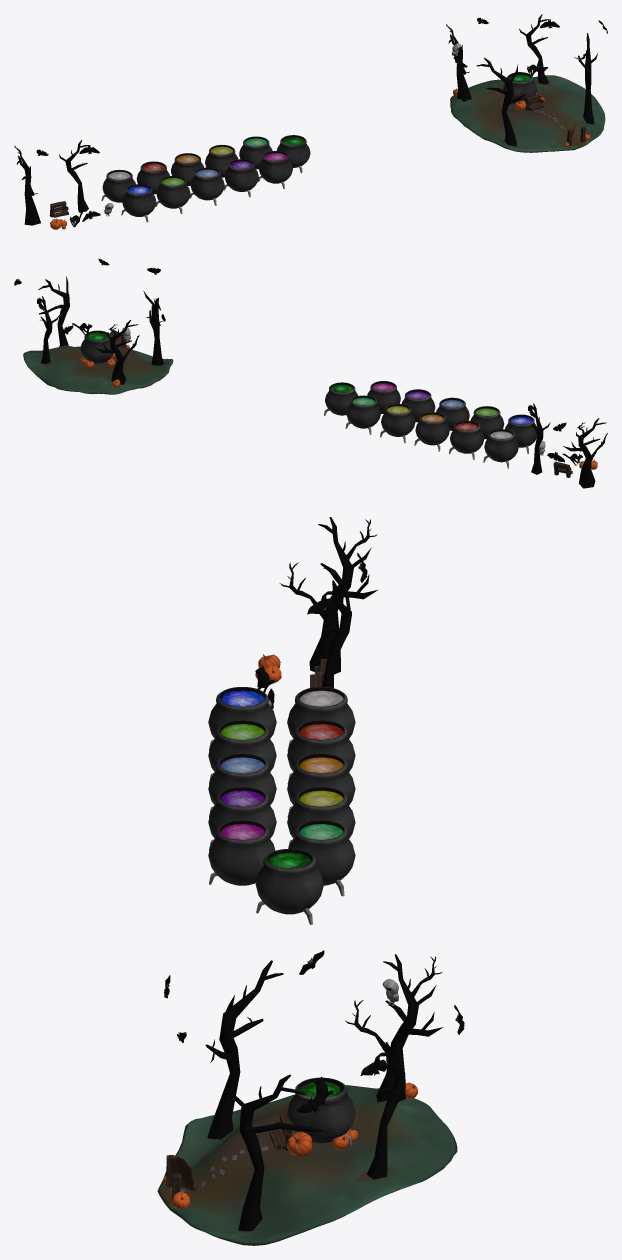
Rendered from cauldron_halloween_set.glb.
The picture shows the model from 3 angles, top to bottom: view 1: azimuth 30°, elevation 25°; view 2: azimuth 150°, elevation 25°; view 3: azimuth 270°, elevation 25°; orthographic projection. The views are drawn at different scales.
Visible parts, largest first — view 1: Base_2, cauldron.003_8, cauldron.002_7, cauldron.004_9, cauldron.005_10, Cauldron_6, cauldron.006_11, cauldron.011_26, cauldron.007_12, cauldron.010_15, Tree_20, cauldron.008_13 (+3 smaller); view 2: Base_2, cauldron.008_13, cauldron.007_12, cauldron.010_15, cauldron.006_11, cauldron.009_14, Tree_20, cauldron.001_4, cauldron.011_26, cauldron.005_10, cauldron.002_7, cauldron.004_9 (+3 smaller); view 3: Base_2, cauldron.011_26, Cauldron_6, cauldron.001_4, cauldron.010_15, Tree_20, cauldron.008_13, cauldron.007_12, cauldron.002_7, cauldron.005_10, cauldron.004_9, cauldron.006_11 (+3 smaller).
Boxes of the visible parts, x1,y1,x2,y2 form: Base_2: [446, 14, 607, 152]; cauldron.003_8: [189, 167, 224, 205]; cauldron.002_7: [224, 159, 258, 197]; cauldron.004_9: [155, 176, 190, 213]; cauldron.005_10: [121, 184, 156, 222]; Cauldron_6: [258, 151, 292, 188]; cauldron.006_11: [101, 169, 135, 202]; cauldron.011_26: [277, 135, 310, 173]; cauldron.007_12: [136, 161, 169, 194]; cauldron.010_15: [239, 136, 272, 169]; Tree_20: [14, 145, 40, 225]; cauldron.008_13: [171, 153, 203, 185]; Base_2: [14, 258, 173, 394]; cauldron.008_13: [414, 412, 449, 451]; cauldron.007_12: [449, 420, 484, 459]; cauldron.010_15: [345, 395, 380, 434]; cauldron.006_11: [483, 429, 518, 468]; cauldron.009_14: [380, 404, 415, 443]; Tree_20: [563, 418, 607, 488]; cauldron.001_4: [80, 330, 114, 365]; cauldron.011_26: [324, 382, 358, 421]; cauldron.005_10: [505, 414, 537, 453]; cauldron.002_7: [401, 389, 435, 422]; cauldron.004_9: [470, 406, 504, 439]; Base_2: [157, 950, 464, 1245]; cauldron.011_26: [255, 849, 323, 924]; Cauldron_6: [208, 820, 275, 885]; cauldron.001_4: [287, 1077, 355, 1145]; cauldron.010_15: [289, 820, 355, 896]; Tree_20: [279, 517, 377, 674]; cauldron.008_13: [287, 753, 355, 817]; cauldron.007_12: [287, 720, 355, 784]; cauldron.002_7: [208, 787, 276, 850]; cauldron.005_10: [208, 687, 276, 750]; cauldron.004_9: [208, 720, 276, 784]; cauldron.006_11: [287, 687, 355, 750].
Size of the model in its own units: 17.21 by 2.61 by 3.9.
1 material, 1 textured.
